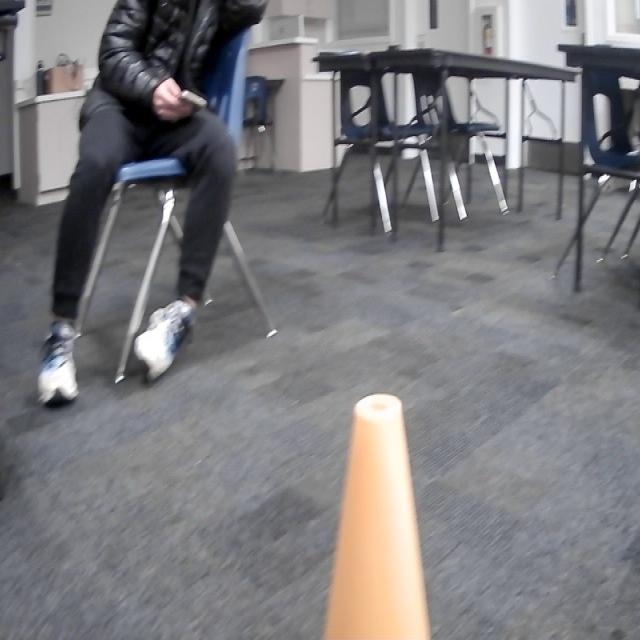cone: (315, 392, 433, 640)
